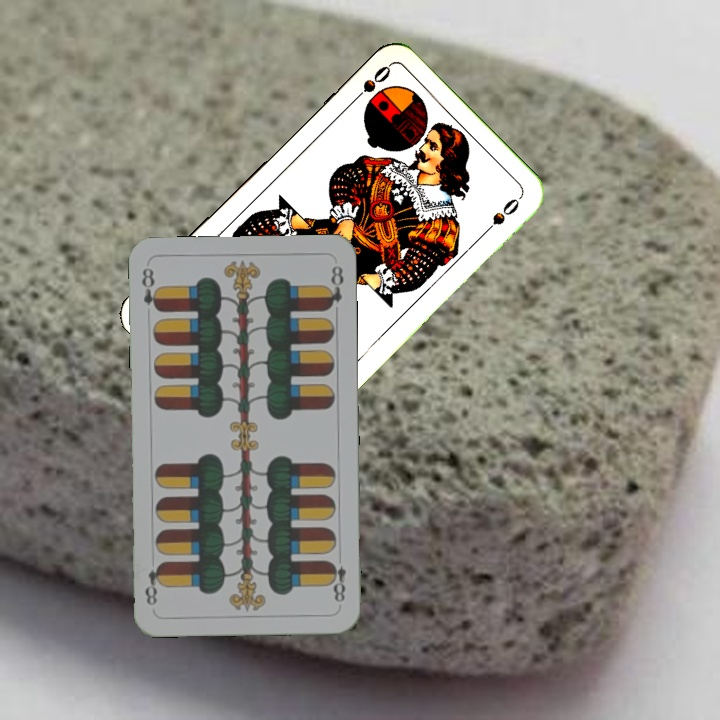E8: (137, 264, 163, 315), (325, 557, 349, 605)
SO: (346, 61, 394, 108)
